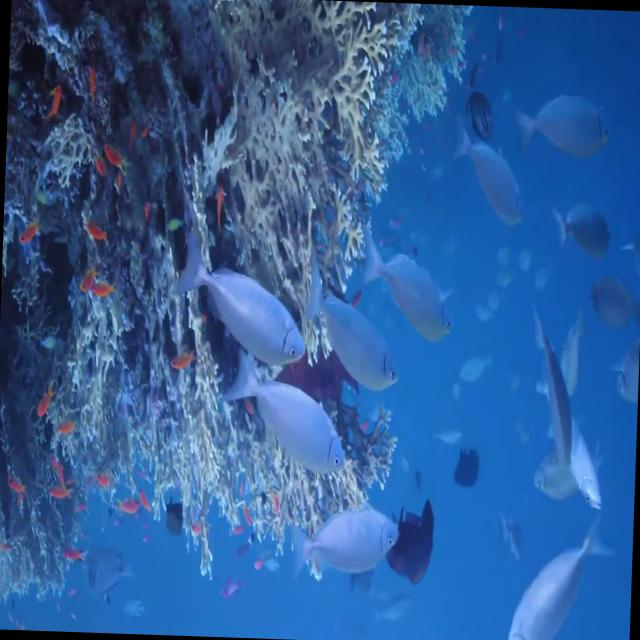fish: (165, 212, 313, 394), (220, 336, 357, 498), (495, 496, 620, 640), (298, 244, 404, 406), (353, 226, 462, 369), (288, 490, 402, 588), (524, 320, 579, 522), (510, 78, 621, 168), (441, 135, 528, 245), (380, 498, 440, 592), (548, 183, 620, 260), (564, 422, 610, 530), (585, 273, 640, 346), (450, 90, 502, 162), (451, 336, 502, 398), (533, 452, 575, 523), (450, 444, 488, 511), (605, 342, 639, 416), (42, 72, 70, 132), (80, 56, 106, 118), (167, 343, 200, 382), (100, 138, 130, 180), (35, 378, 62, 424), (217, 570, 248, 609), (429, 424, 471, 452), (88, 270, 119, 307), (109, 490, 143, 522), (56, 541, 88, 574), (13, 217, 44, 251), (4, 464, 30, 504), (42, 482, 76, 511), (85, 220, 114, 253), (92, 453, 112, 498), (56, 416, 80, 449)
